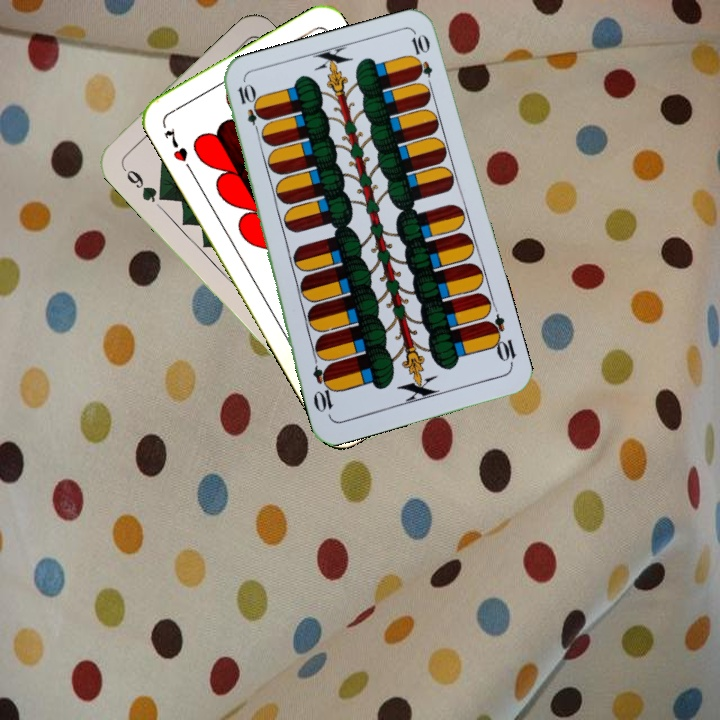E10: (482, 311, 519, 369), (233, 80, 265, 138)
G9: (117, 160, 168, 206)
H7: (160, 124, 195, 174)
